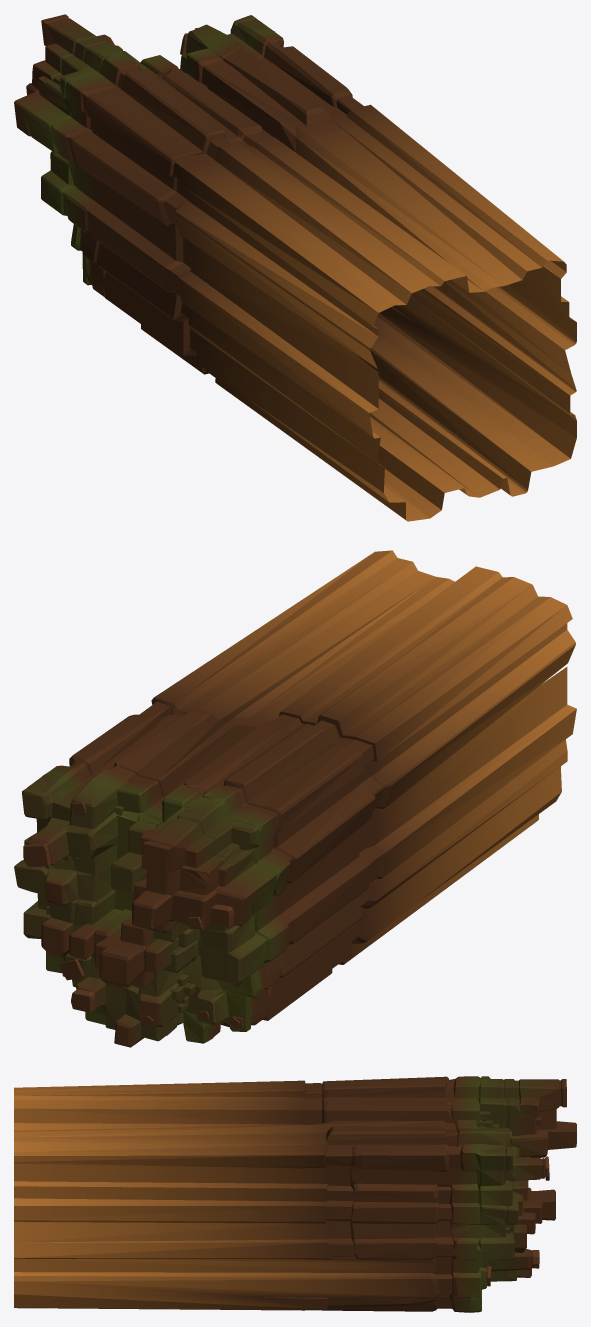
The model's file is RayeredRockAb.fbx.
The picture shows the model from 3 angles, top to bottom: view 1: azimuth 30°, elevation 25°; view 2: azimuth 150°, elevation 25°; view 3: azimuth 270°, elevation 25°; orthographic projection. The views are drawn at different scales.
Parts seen in each view (by area): view 1: w5a02_s10_RayeredRockAb__i0000; view 2: w5a02_s10_RayeredRockAb__i0000; view 3: w5a02_s10_RayeredRockAb__i0000.
Part boxes in pixels (<box>): w5a02_s10_RayeredRockAb__i0000: <box>14,14,576,521</box>; w5a02_s10_RayeredRockAb__i0000: <box>14,550,576,1047</box>; w5a02_s10_RayeredRockAb__i0000: <box>14,1076,576,1312</box>.
Size of the model in its own units: 58.37 by 161 by 58.98.
